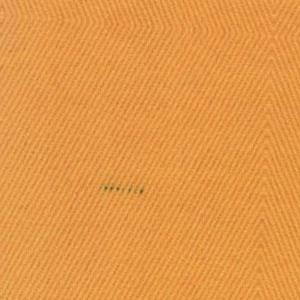stain: (99, 180, 149, 200)
